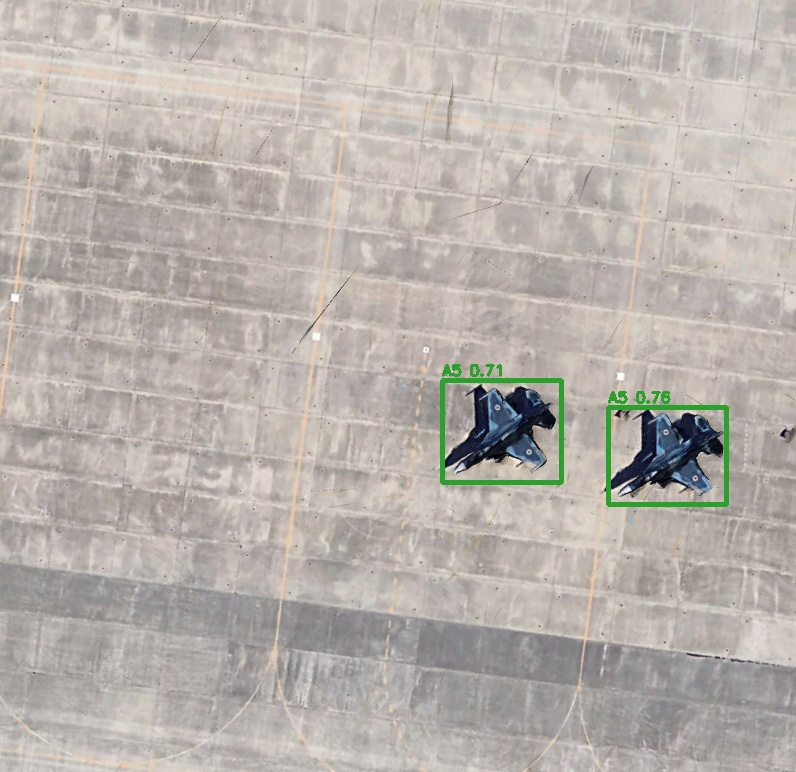A5: (442, 380, 561, 482), (608, 407, 726, 504)
